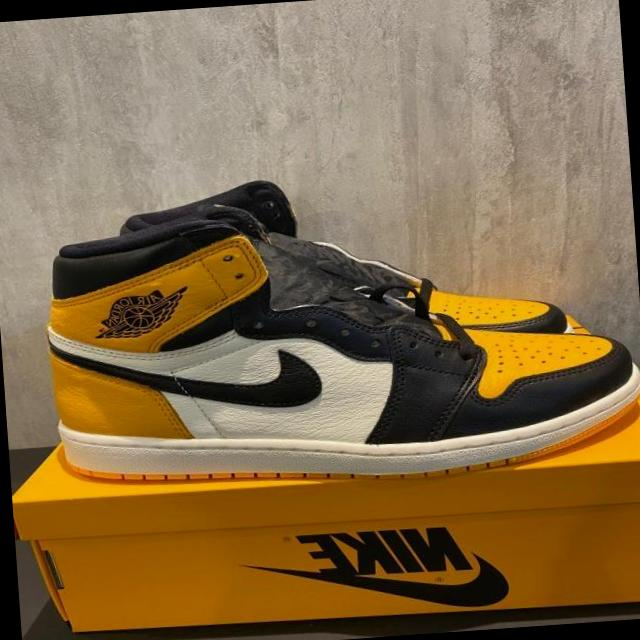nike_original_jordan: (18, 190, 640, 507), (110, 158, 573, 370)
